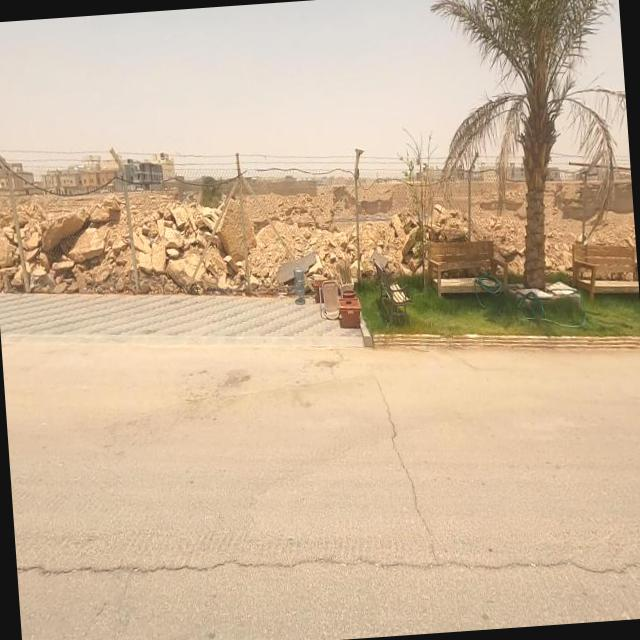debris: (294, 242, 361, 354), (270, 231, 319, 322)
